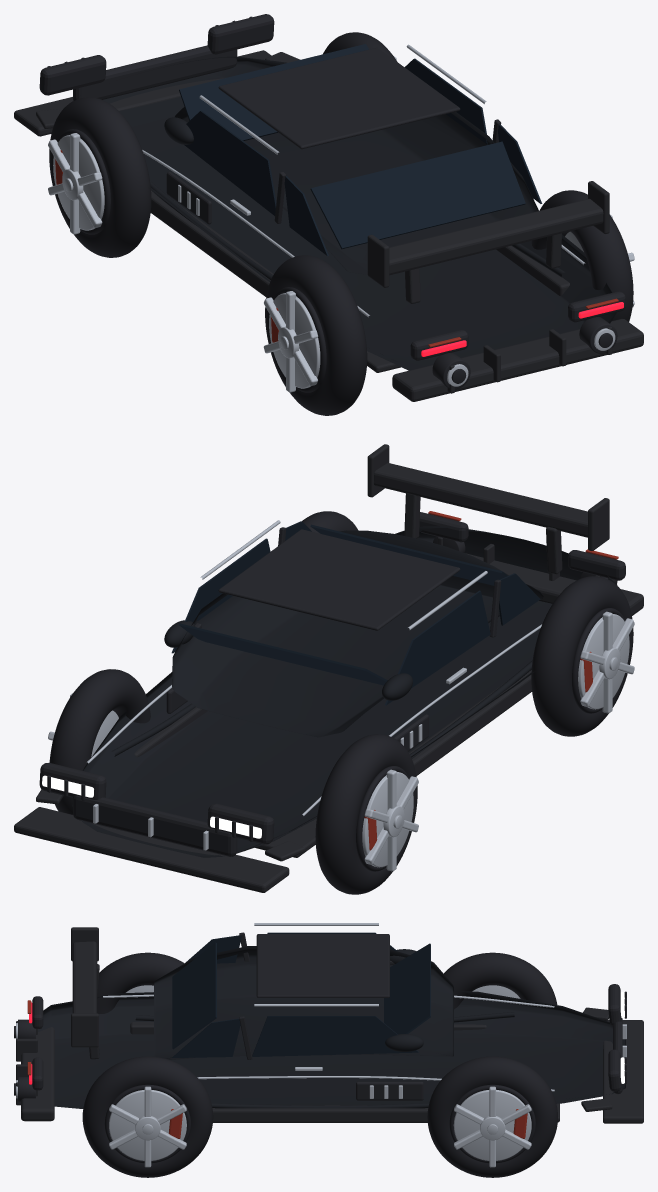
The model's file is player-supercar.glb.
3 renders of one model, top to bottom at view 1: azimuth 30°, elevation 25°; view 2: azimuth 150°, elevation 25°; view 3: azimuth 270°, elevation 25°, orthographic. The views are drawn at different scales.
Visible parts, largest first — view 1: Obsidian black paint, Dark trim, Smoked glazing, Tire rubber (×4), Carbon composite, Machined alloy (×3), Red LED, Brake and indicator accents; view 2: Obsidian black paint, Dark trim, Tire rubber (×4), Carbon composite, Smoked glazing, Machined alloy (×3), White LED, Brake and indicator accents; view 3: Obsidian black paint, Tire rubber (×4), Smoked glazing, Carbon composite, Dark trim, Machined alloy (×3), Brake and indicator accents.
Part boxes in pixels (x1,y1,x2,y2): Obsidian black paint: (74, 56, 616, 370); Dark trim: (39, 14, 625, 389); Smoked glazing: (179, 44, 542, 256); Tire rubber (×4): (49, 32, 633, 415); Carbon composite: (14, 50, 643, 401); Machined alloy (×3): (48, 44, 615, 392); Red LED: (421, 302, 623, 356); Brake and indicator accents: (55, 150, 618, 347); Obsidian black paint: (72, 526, 617, 857); Dark trim: (39, 512, 625, 856); Tire rubber (×4): (49, 511, 633, 894); Carbon composite: (14, 444, 643, 892); Smoked glazing: (171, 521, 540, 705); Machined alloy (×3): (87, 520, 634, 871); White LED: (42, 775, 261, 838); Brake and indicator accents: (364, 511, 618, 850); Obsidian black paint: (38, 946, 625, 1108); Tire rubber (×4): (82, 952, 557, 1177); Smoked glazing: (172, 932, 430, 1057); Carbon composite: (16, 927, 643, 1123); Dark trim: (14, 932, 626, 1101); Machined alloy (×3): (16, 923, 626, 1167); Brake and indicator accents: (27, 1000, 527, 1138).
Bounding box in the file's own units: 2.53 × 1.47 × 5.21.
